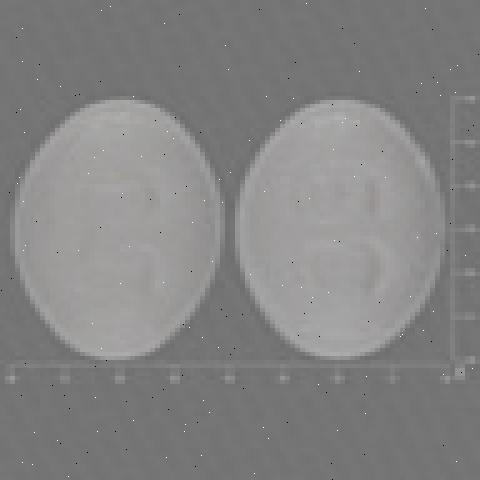Pill: (234, 76, 464, 388), (3, 76, 228, 390)
